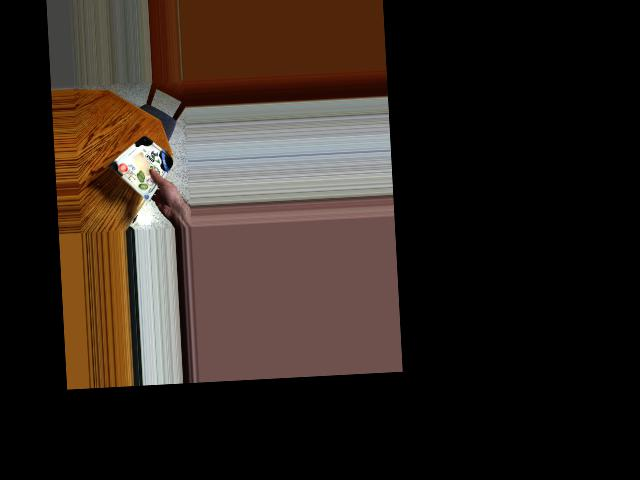cheese: (116, 140, 174, 190)
